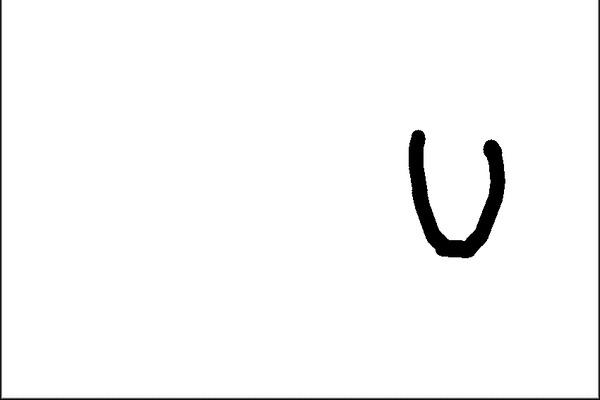U: (389, 123, 511, 262)
